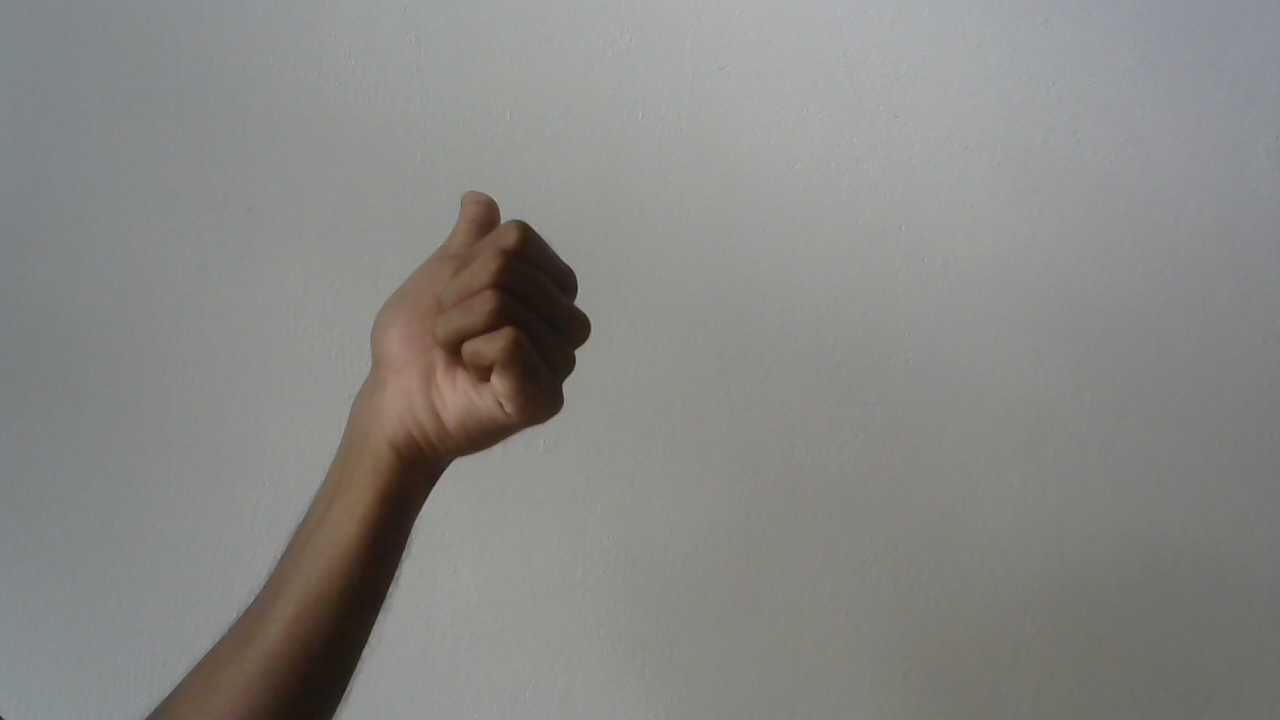thumbsup: (353, 165, 612, 480)
